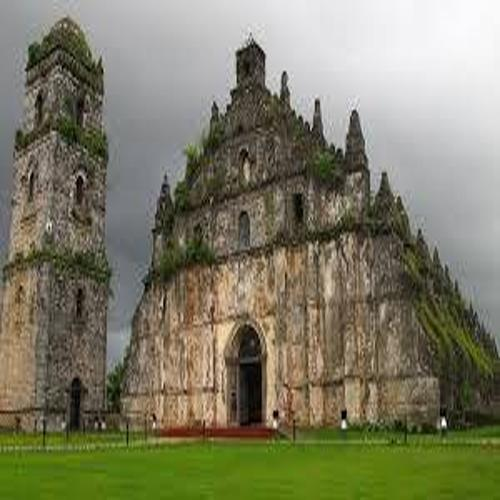Paoay Church: (8, 12, 479, 437)
